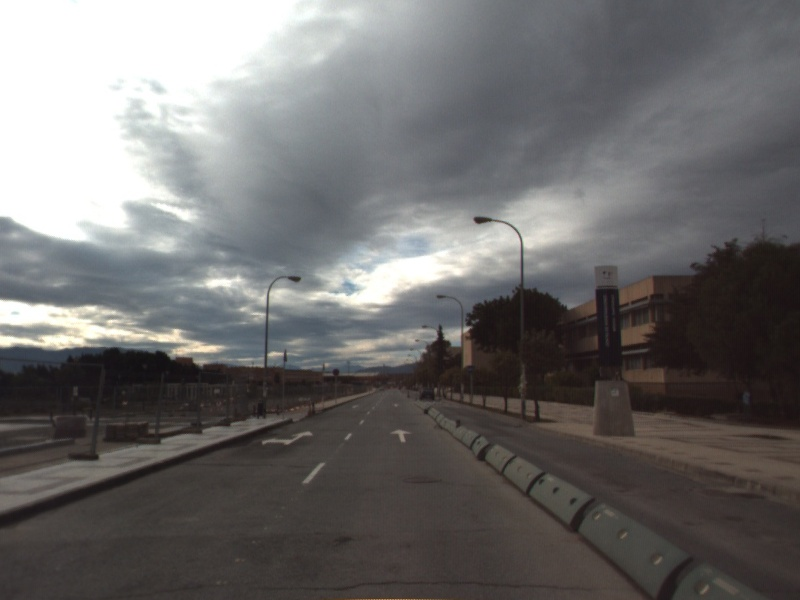STRAIGHT: (388, 427, 415, 444)
STRAIGHT_LEFT: (259, 429, 315, 447)
